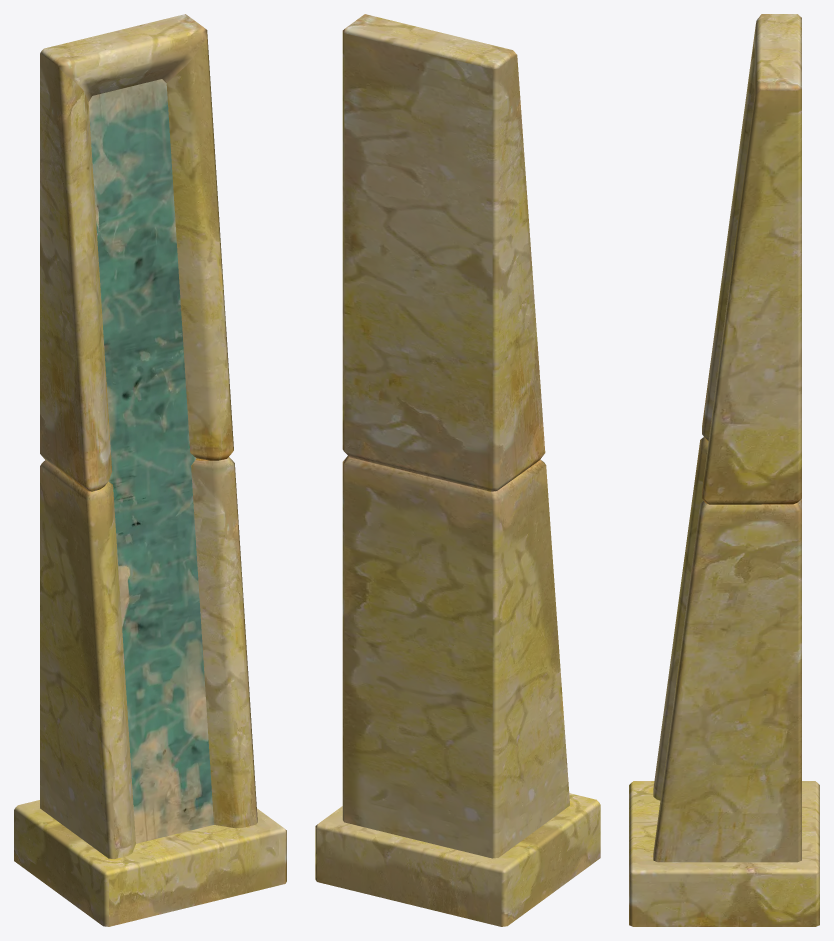
The picture shows the model from 3 angles, left to right: view 1: azimuth 30°, elevation 25°; view 2: azimuth 150°, elevation 25°; view 3: azimuth 270°, elevation 25°; orthographic projection. The views are drawn at different scales.
Parts seen in each view (by area): view 1: SM_Menaphite_Ruins_Column_01_LOD0; view 2: SM_Menaphite_Ruins_Column_01_LOD0; view 3: SM_Menaphite_Ruins_Column_01_LOD0.
Part boxes in pixels (x1=…): SM_Menaphite_Ruins_Column_01_LOD0: x1=14, y1=14, x2=286, y2=926; SM_Menaphite_Ruins_Column_01_LOD0: x1=315, y1=14, x2=600, y2=926; SM_Menaphite_Ruins_Column_01_LOD0: x1=629, y1=14, x2=819, y2=926.
Size of the model in its own units: 1.26 by 5.31 by 1.1.
2 materials, 2 textured.
